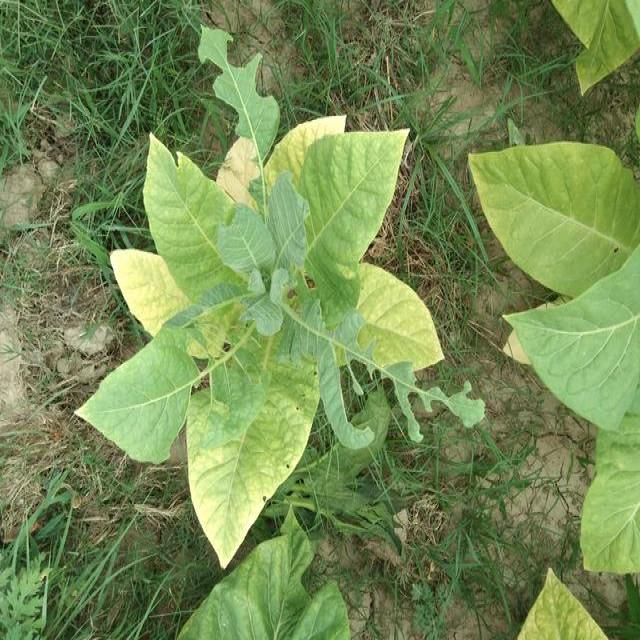crop: (70, 18, 485, 564)
